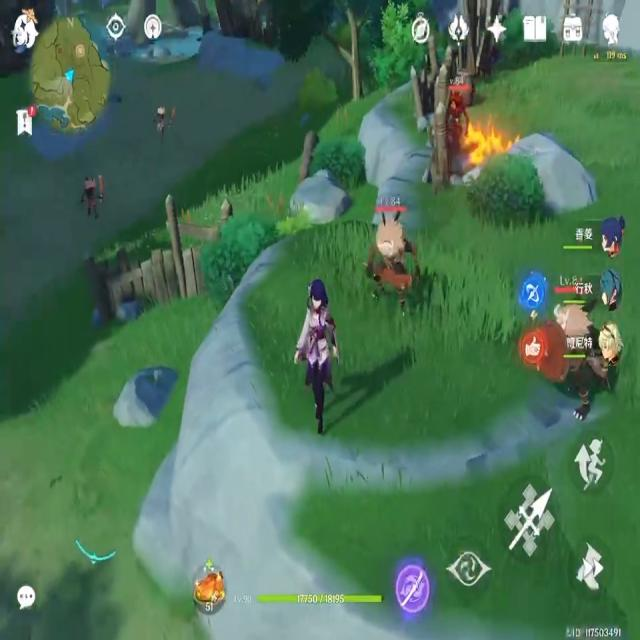genshin-hilichurls: (371, 188, 422, 311), (551, 273, 581, 359), (444, 80, 474, 164), (74, 171, 114, 212), (154, 95, 170, 138)
